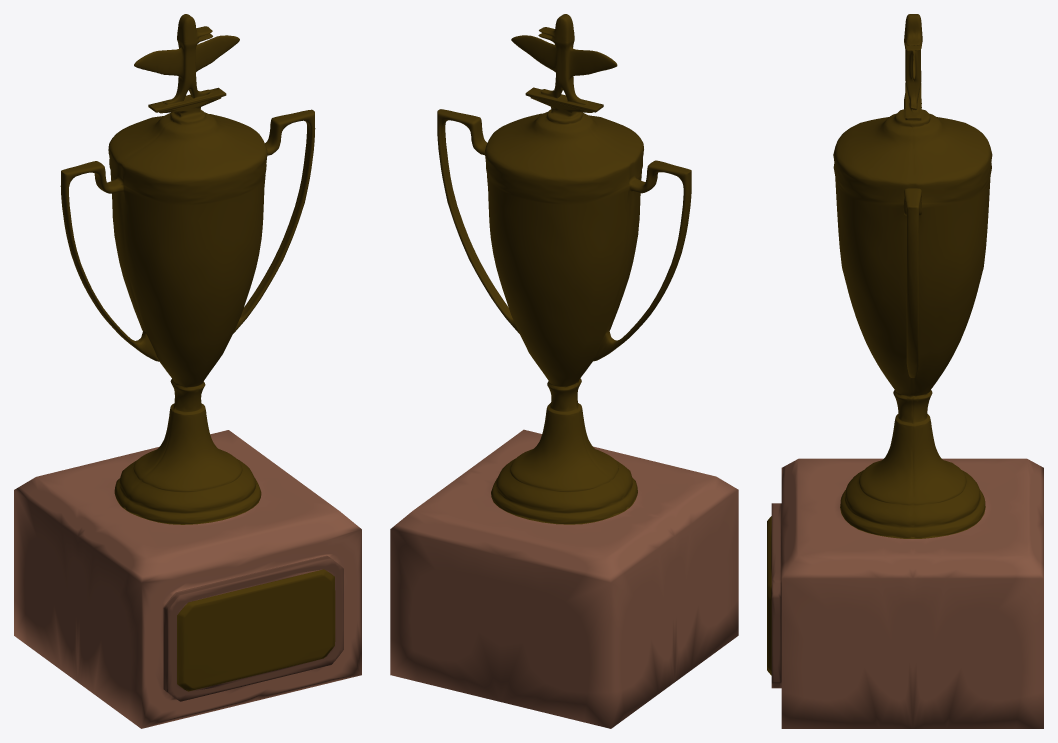
The model's file is TrophySmooth.fbx.
3 renders of one model, left to right at view 1: azimuth 30°, elevation 25°; view 2: azimuth 150°, elevation 25°; view 3: azimuth 270°, elevation 25°, orthographic. The views are drawn at different scales.
Parts seen in each view (by area): view 1: pCube37; view 2: pCube37; view 3: pCube37.
Boxes of the visible parts, <box> form: pCube37: <box>14,14,361,728</box>; pCube37: <box>390,14,738,728</box>; pCube37: <box>767,14,1043,728</box>.
Bounding box in the file's own units: 0.514 × 1.25 × 0.4758.
